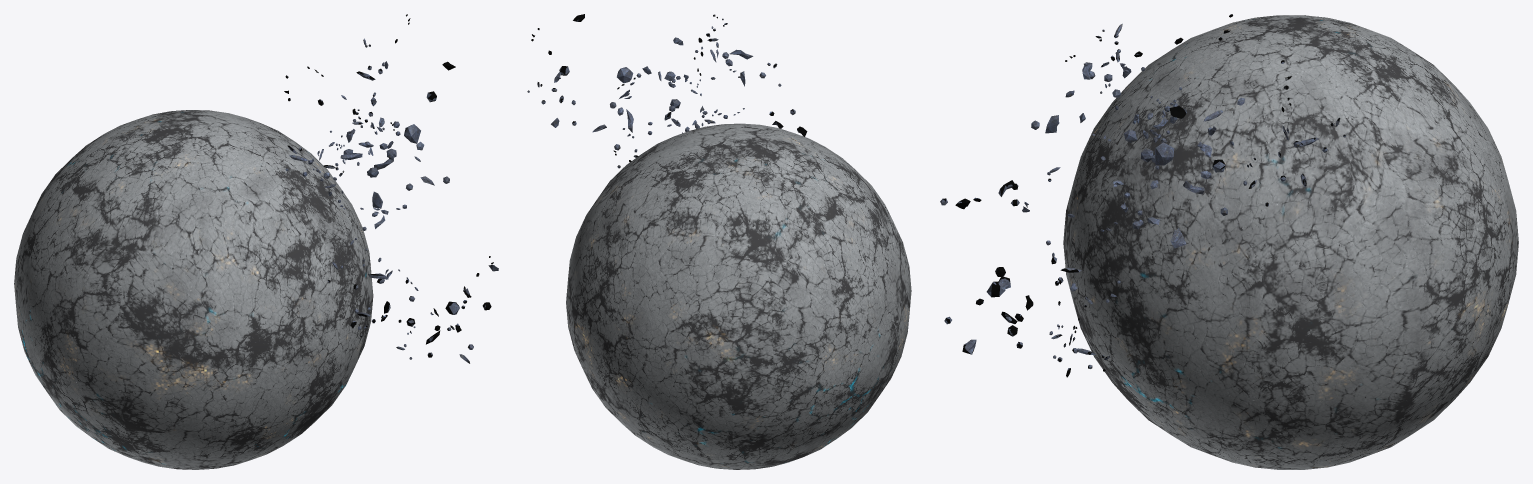
Rendered from SadV2.glb.
The picture shows the model from 3 angles, left to right: view 1: azimuth 30°, elevation 25°; view 2: azimuth 150°, elevation 25°; view 3: azimuth 270°, elevation 25°; orthographic projection. The views are drawn at different scales.
Parts seen in each view (by area): view 1: Cracks (SAD), Cracks (SAD) rocks; view 2: Cracks (SAD), Cracks (SAD) rocks; view 3: Cracks (SAD), Cracks (SAD) rocks.
Boxes of the visible parts, box(x1,y1,x2,y2) form: Cracks (SAD): box(14, 110, 373, 469); Cracks (SAD) rocks: box(284, 14, 498, 363); Cracks (SAD): box(566, 123, 911, 469); Cracks (SAD) rocks: box(527, 14, 807, 168); Cracks (SAD): box(1063, 15, 1518, 469); Cracks (SAD) rocks: box(940, 14, 1345, 377).
Size of the model in its own units: 2.38 by 2.38 by 2.54.
2 materials, 2 textured.
